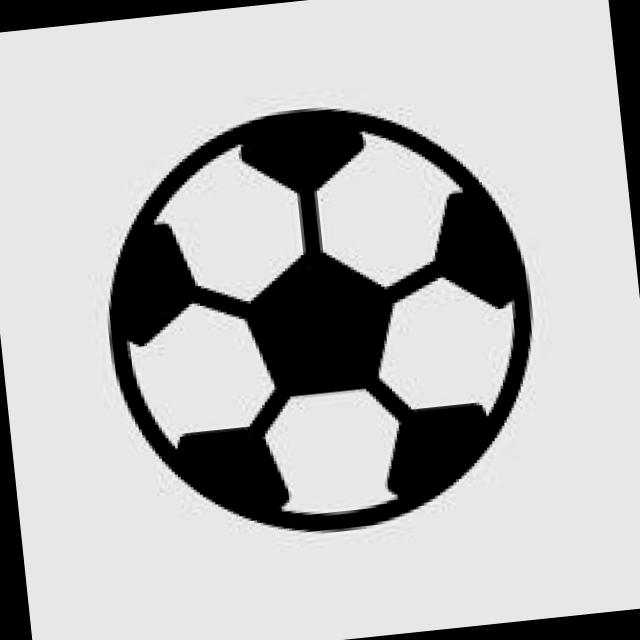Soccer Ball: (86, 82, 547, 553)
